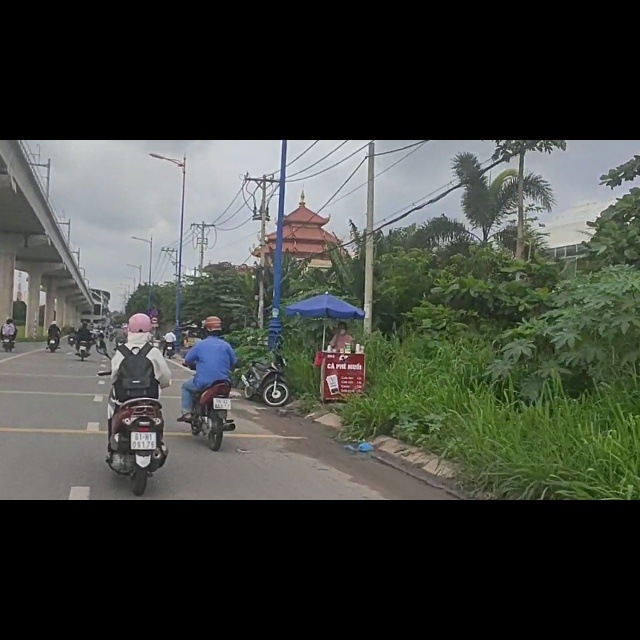bien_cam: (151, 297, 159, 312), (151, 313, 158, 326)
